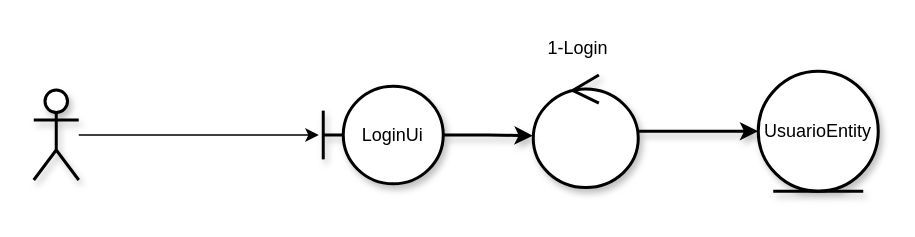
Some shapes in this 915 by 237 pixel diagram are drawn without their labels. Here are the shapes that lost their labels. From the top down, the centre of each, then its label:
point (57, 136): Usuario
point (586, 133): LoginAction
